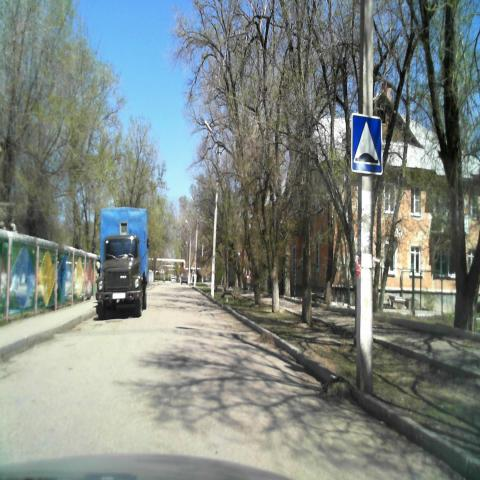5_20: (352, 115, 384, 176)
